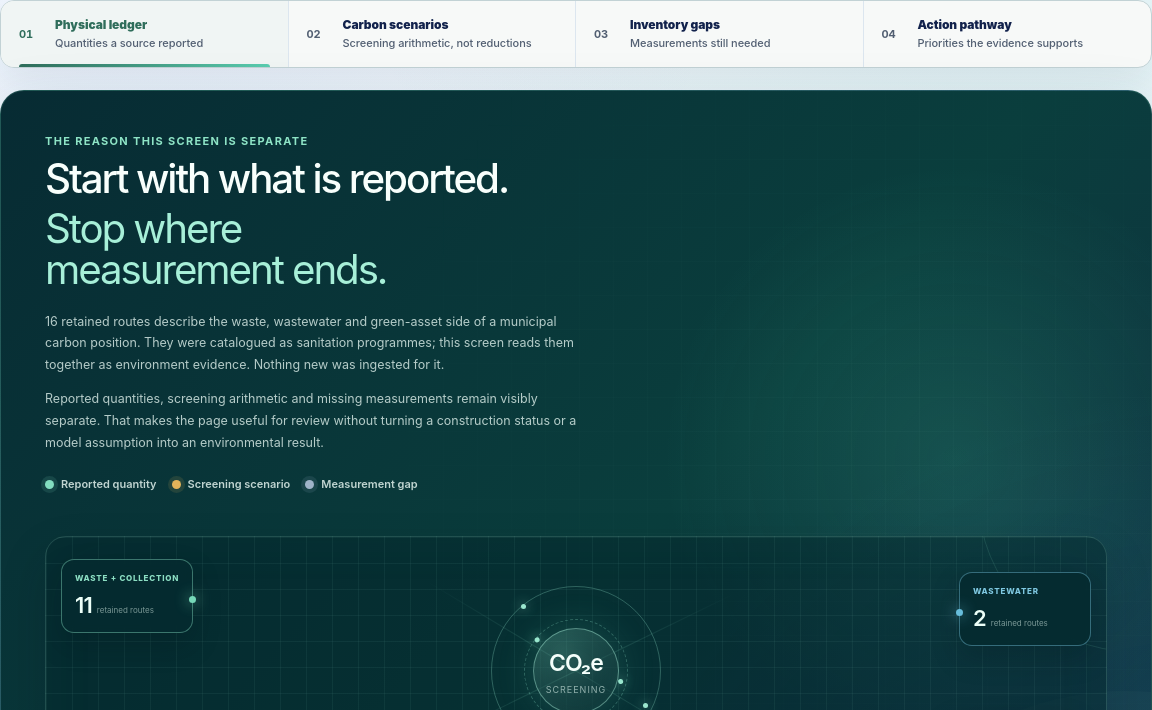
environment and carbon screen › names the missing measurement for every withheld conversion
The width and height of the screenshot is (1152, 710).
Step 1. Click the tab "03 Inventory gaps Measurements still needed" → (720, 34), box [576,1,864,67]
(page scrolled)
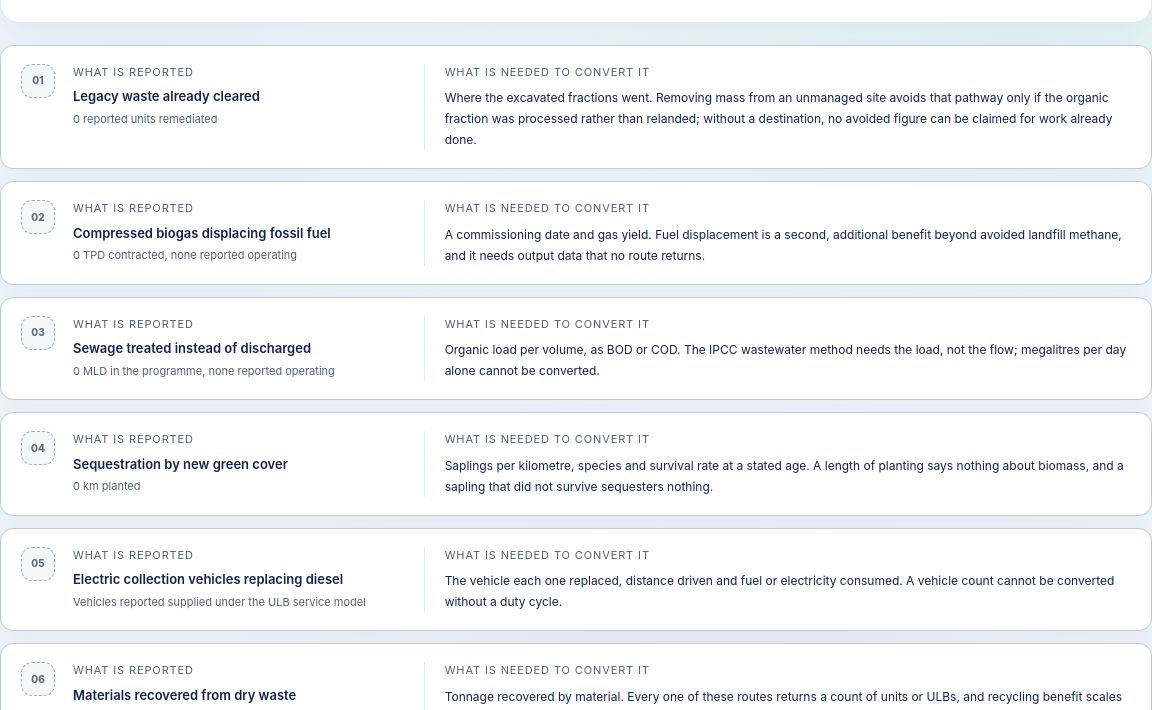
expect the text "Organic load per volume, as BOD or COD" is shown: met, box [445,342,1126,378]
